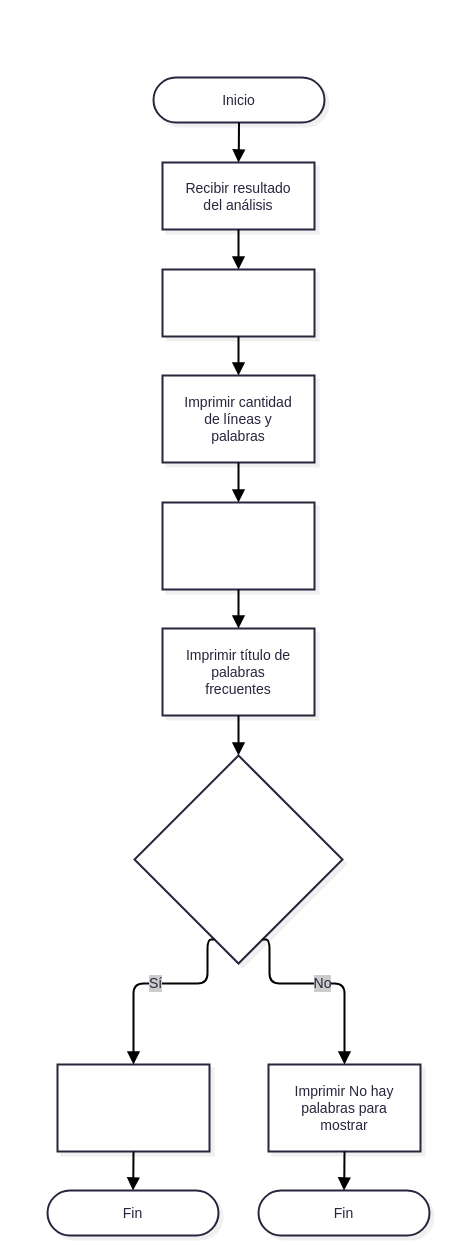
Image size: 451x1257. Some labels were removed from this diagram. Here are the shapes that lost their labels. From the top down, the centre of each, then its label:
[240,304]: Imprimir título del resumen
[240,547]: Imprimir caracteres con y sin espacios
[240,861]: ¿Existen frecuencias de palabras?
[135,1109]: Mostrar las 5 palabras más frecuentes
